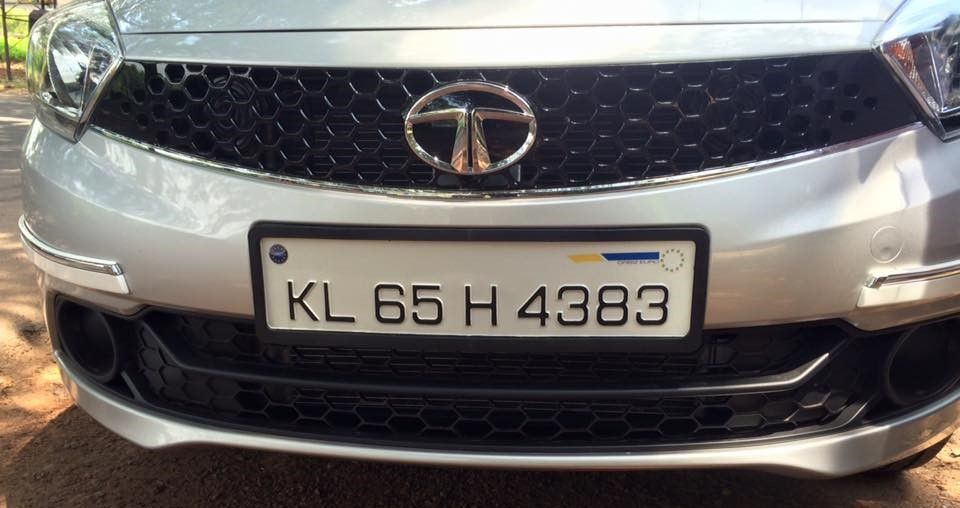KL65H4383: (256, 235, 696, 340)
